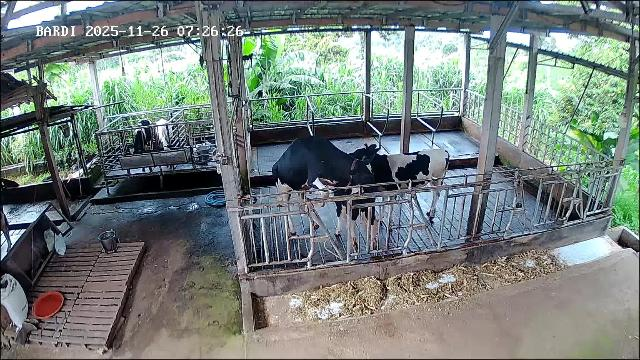mounting: (273, 133, 375, 237)
